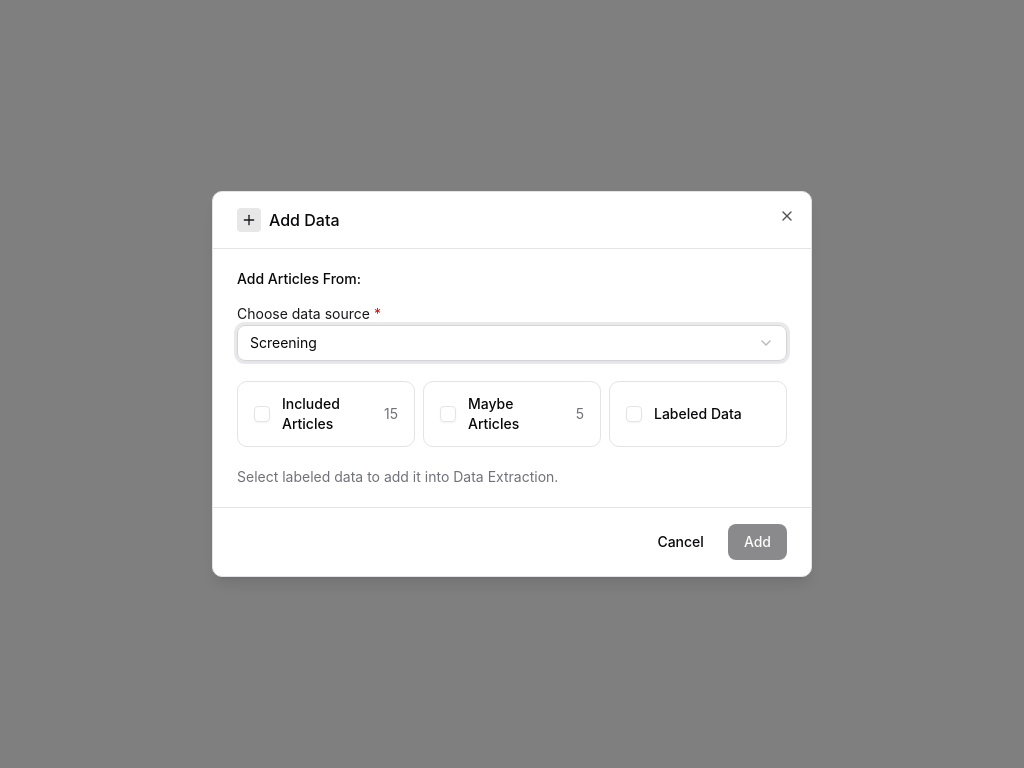
Scenario: Components - AddDataDialog › handles article type toggling robustly organically dynamically natively flexibly securely reliably logically comfortably natively optimally perfectly structural
Check: the button "Add" is disabled, box [728,524,787,560]
Note: Toggle "Included Articles"
Click the button "Included Articles 15" at (326, 414), box [237,381,415,447]
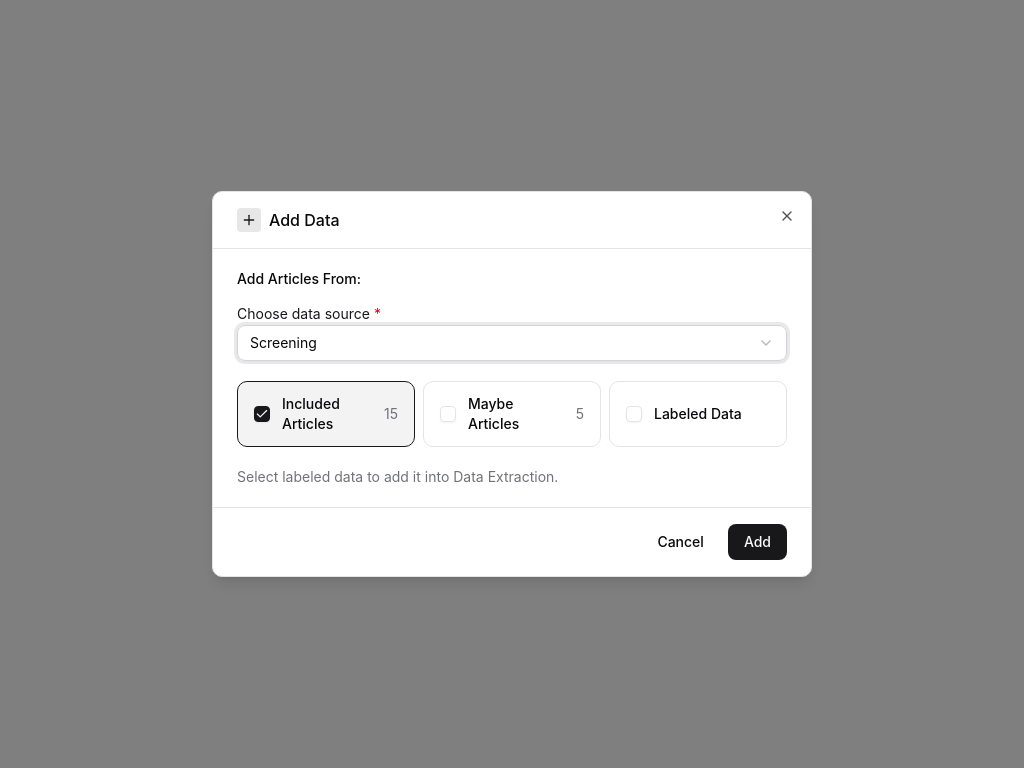
Check: the button "Add" is enabled, box [728,524,787,560]
Note: Toggle "Labeled Data"
Click the button "Labeled Data" at (698, 414), box [609,381,787,447]
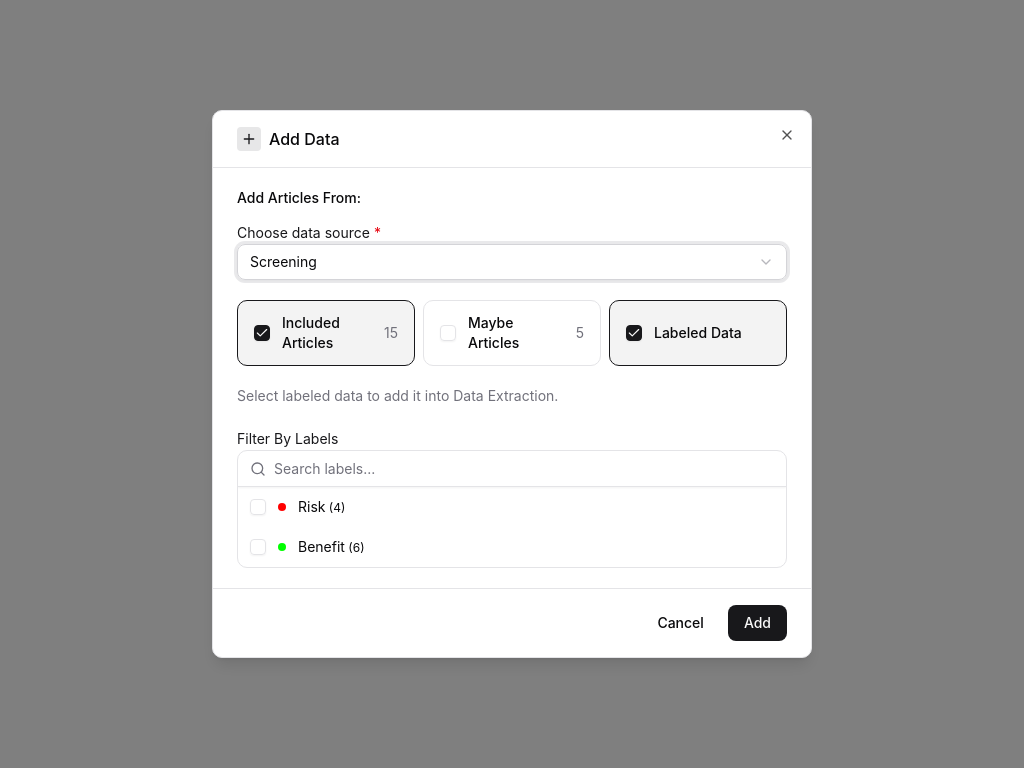
Check: the text "Filter By Labels" is shown, box [237,430,338,447]
Check: the text "Risk" is shown, box [298,498,326,515]
Check: the text "Benefit" is shown, box [298,538,345,555]
